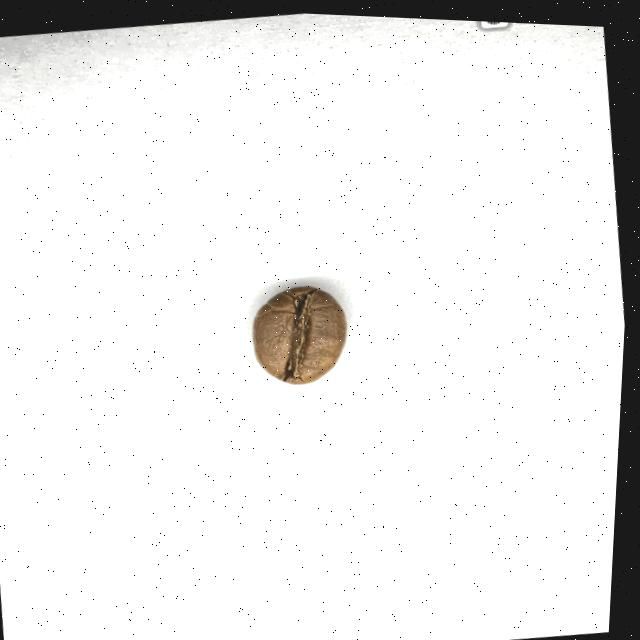Good bean: (251, 279, 355, 387)
